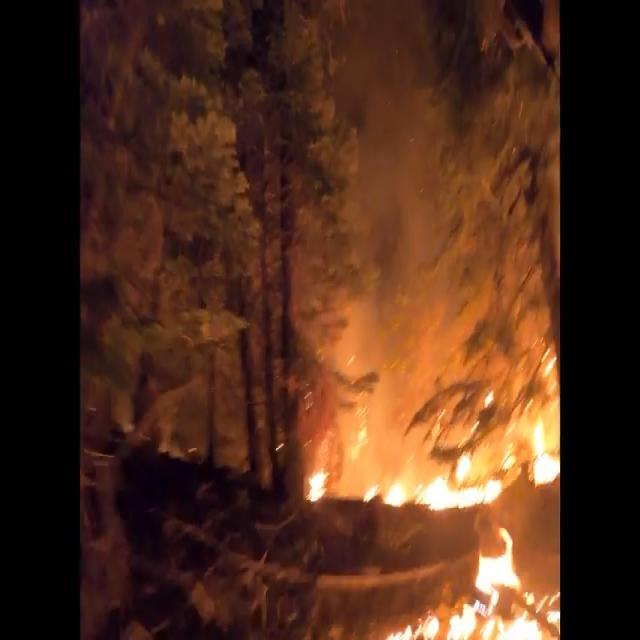Fire: (307, 363, 562, 505), (384, 521, 560, 640)
